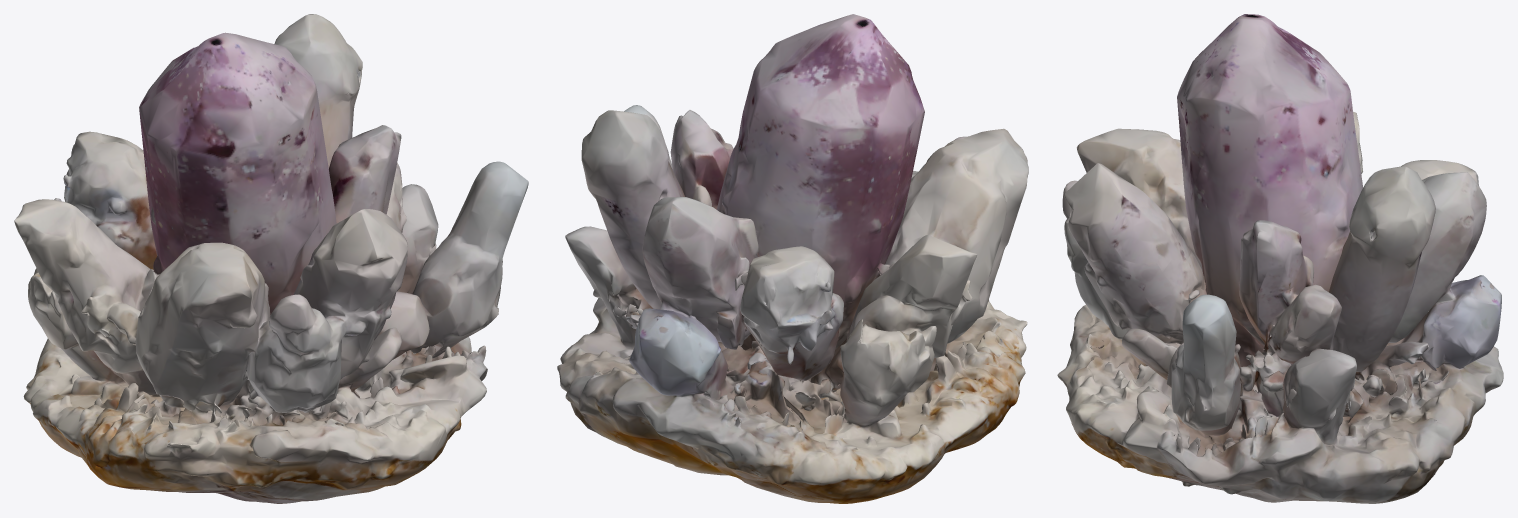
File: nature-crystal-cave.glb
3 views of the same model, side by side, from view 1: azimuth 30°, elevation 25°; view 2: azimuth 150°, elevation 25°; view 3: azimuth 270°, elevation 25° (orthographic). The views are drawn at different scales.
Visible parts, largest first — view 1: tripo_node_f815e21b-599e-4ec7-a581-7c3957a2d9d8; view 2: tripo_node_f815e21b-599e-4ec7-a581-7c3957a2d9d8; view 3: tripo_node_f815e21b-599e-4ec7-a581-7c3957a2d9d8.
Boxes of the visible parts, x1=… form: tripo_node_f815e21b-599e-4ec7-a581-7c3957a2d9d8: x1=14, y1=14, x2=528, y2=503; tripo_node_f815e21b-599e-4ec7-a581-7c3957a2d9d8: x1=557, y1=14, x2=1028, y2=503; tripo_node_f815e21b-599e-4ec7-a581-7c3957a2d9d8: x1=1057, y1=14, x2=1503, y2=503.
Size of the model in its own units: 2.01 by 2 by 1.84.
1 material, 1 textured.
